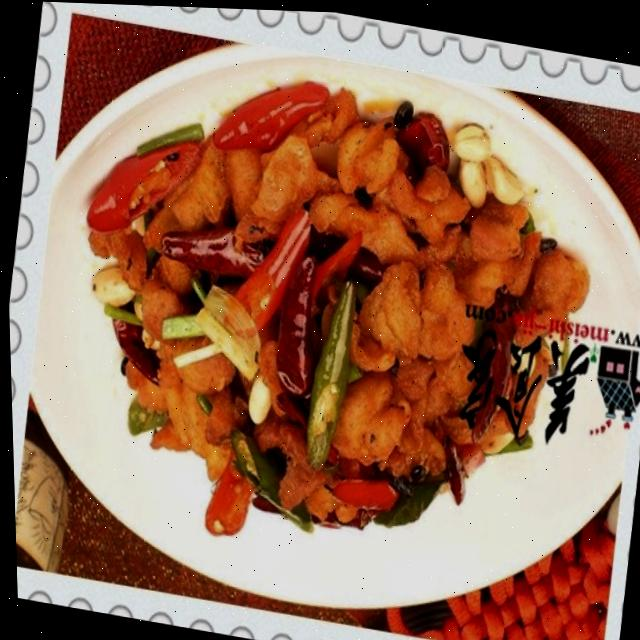鸡肉料理 含炸鸡: (30, 25, 640, 614)
